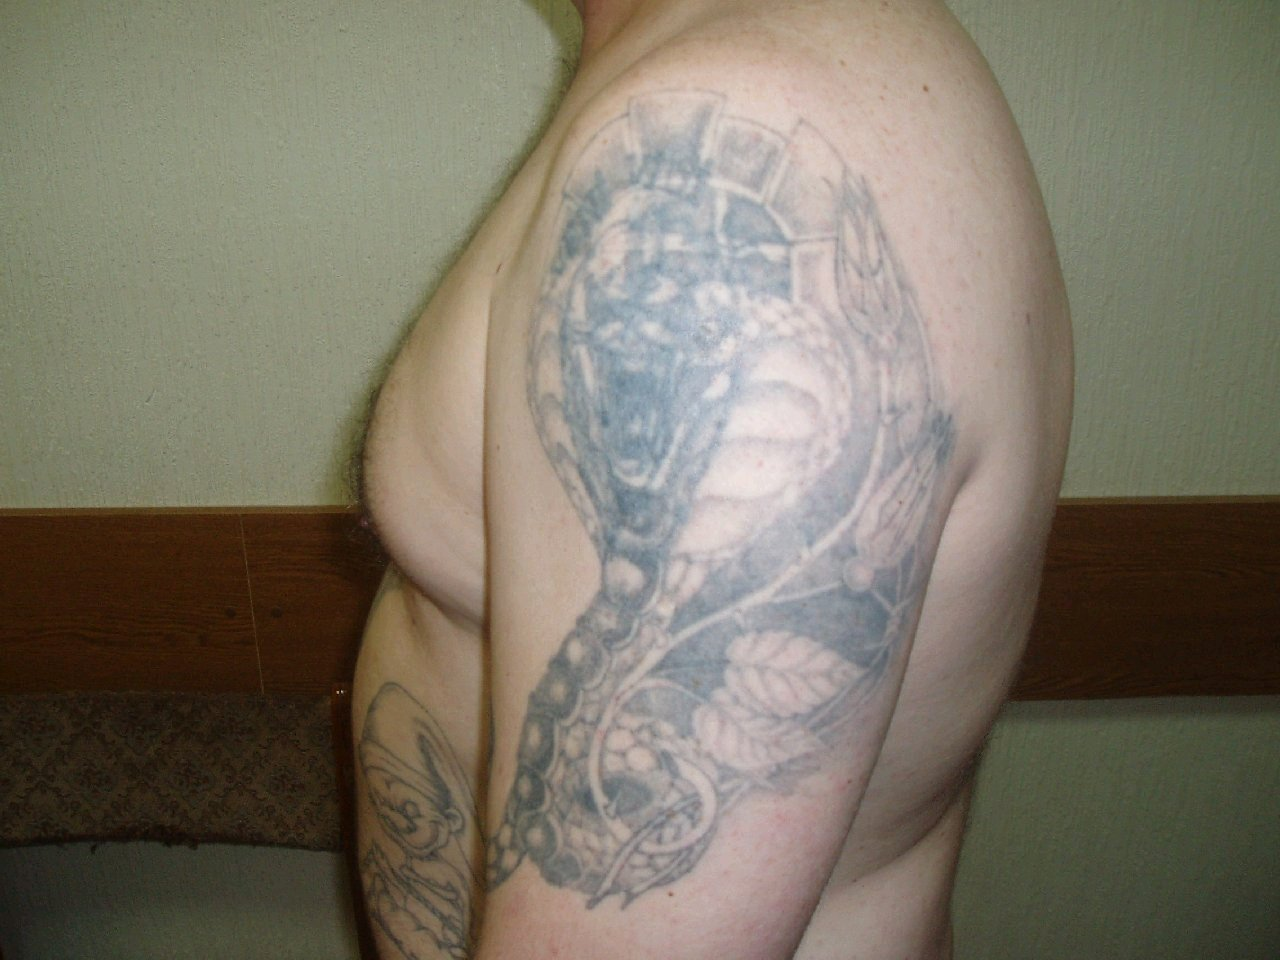tatu7_zmeya: (478, 92, 959, 827)
